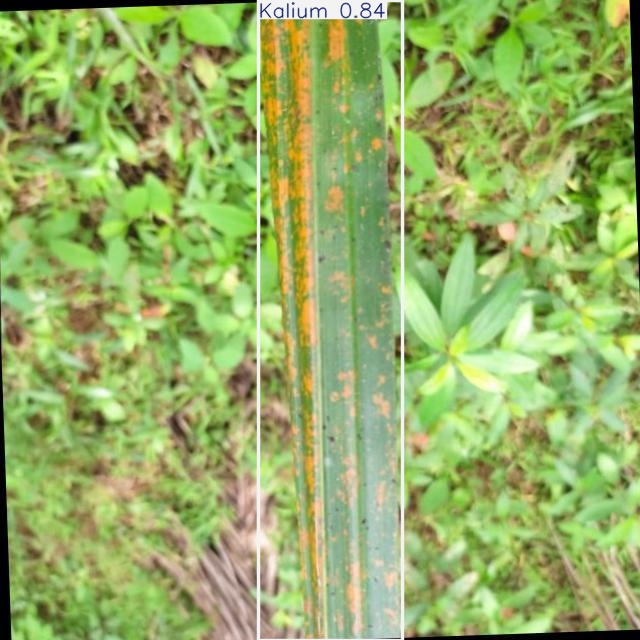Kalium: (258, 1, 403, 640)
